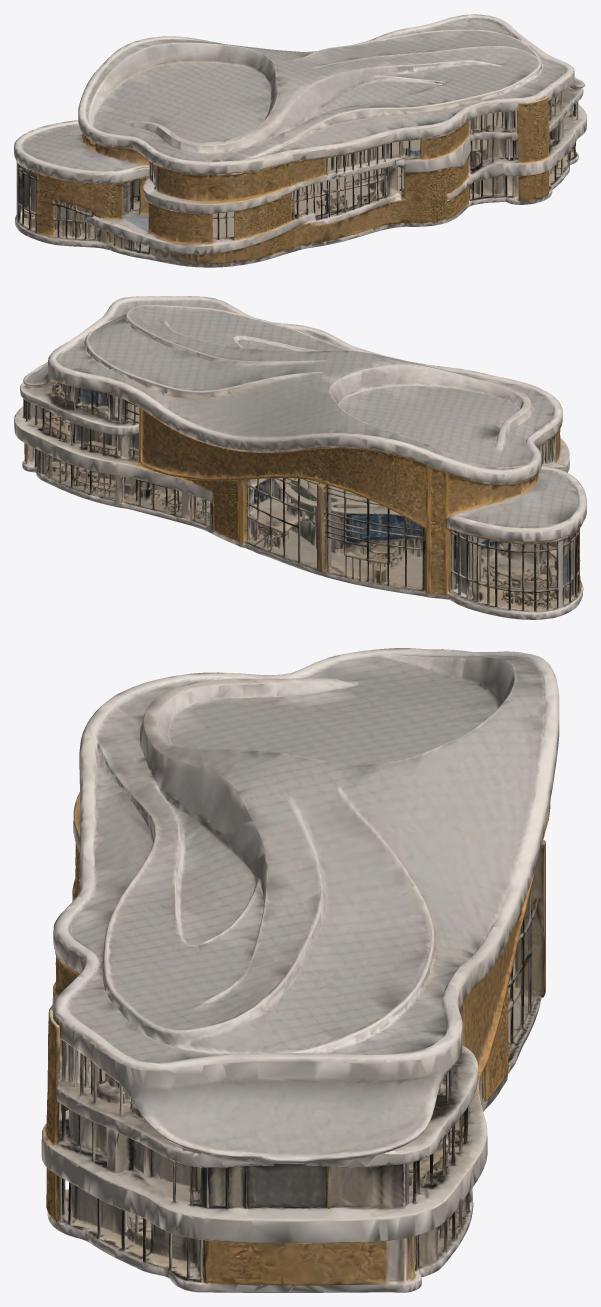
Rendered from learning.glb.
3 renders of one model, top to bottom at view 1: azimuth 30°, elevation 25°; view 2: azimuth 150°, elevation 25°; view 3: azimuth 270°, elevation 25°, orthographic. The views are drawn at different scales.
Visible parts, largest first — view 1: Mesh_0; view 2: Mesh_0; view 3: Mesh_0.
Part boxes in pixels (bbox=[...]): Mesh_0: bbox=[14, 14, 586, 267]; Mesh_0: bbox=[14, 296, 586, 619]; Mesh_0: bbox=[41, 648, 559, 1292].
Bounding box in the file's own units: 47.99 × 12.36 × 21.11.
Materials: 1 (1 with a texture image).
